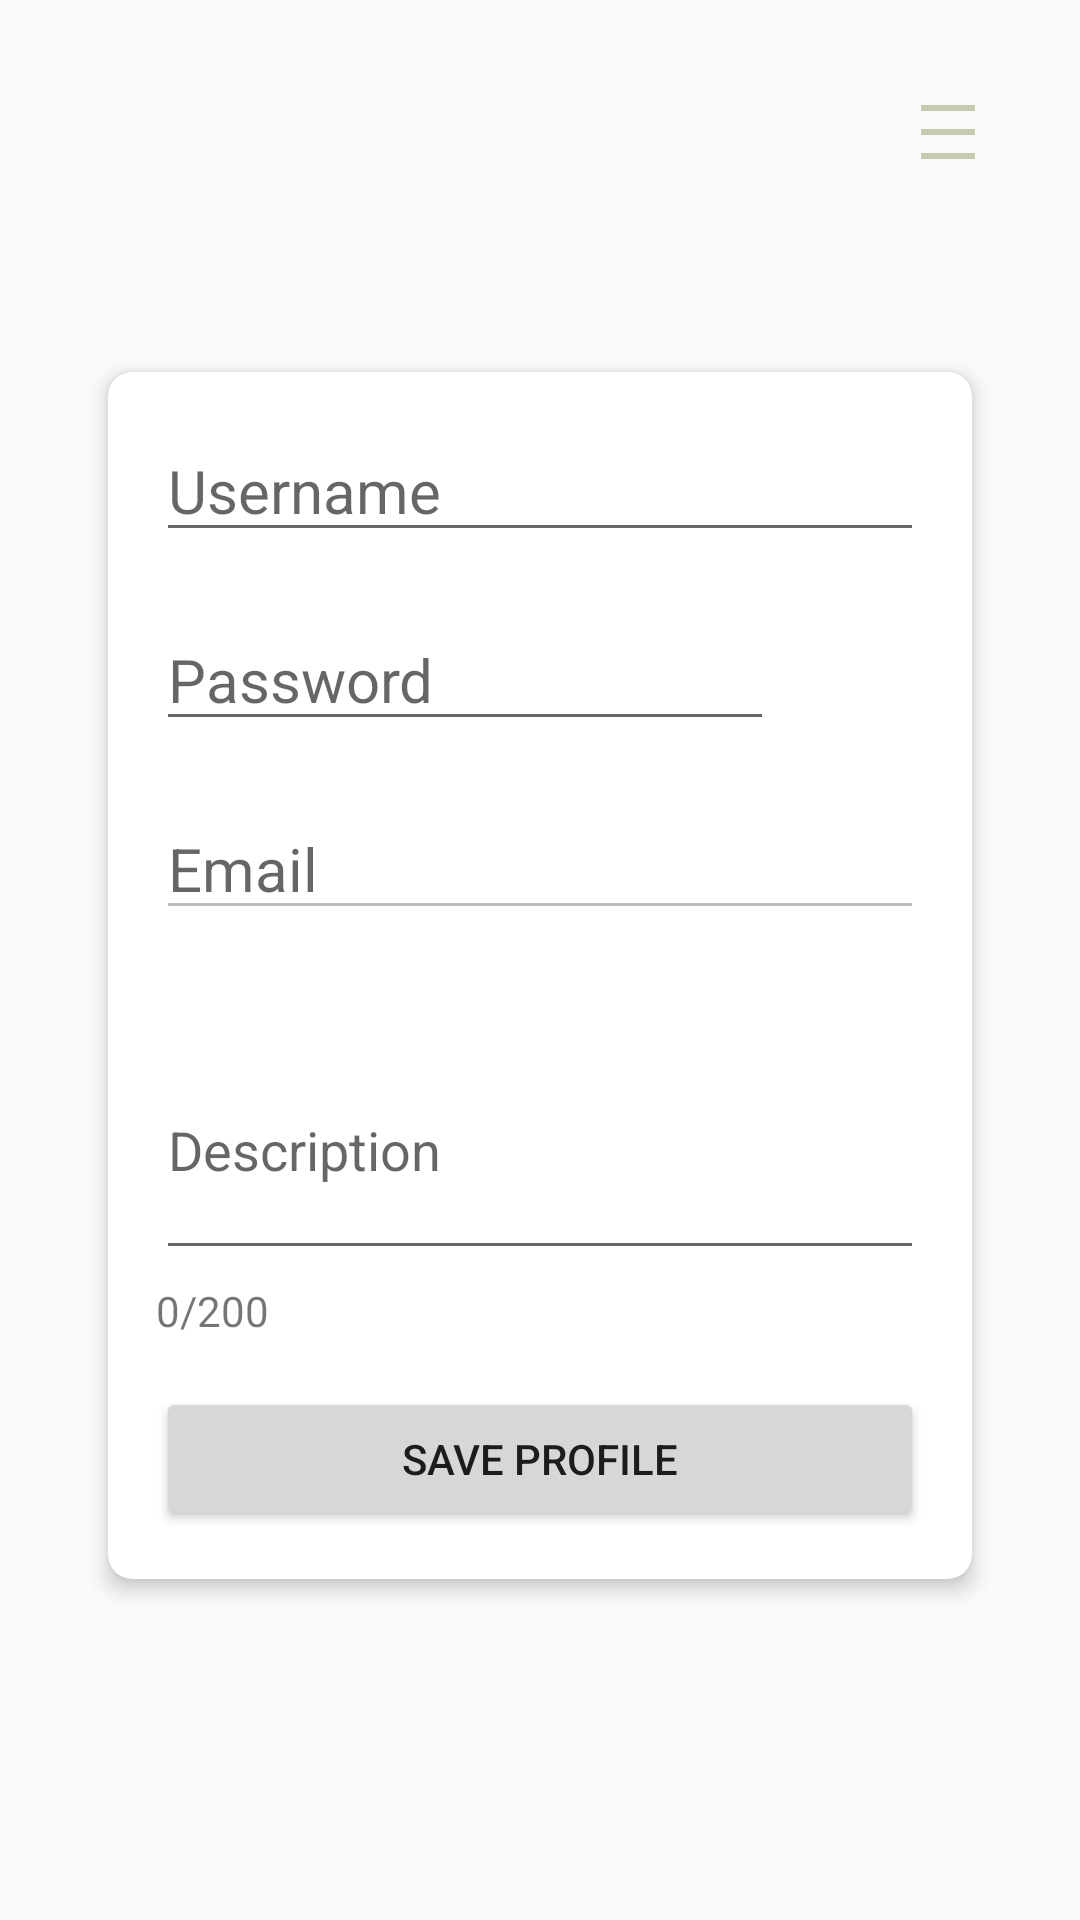

Screen size 1080w x 1920h. Icon name, then its center in pixels as (x=x, y=y):
Menu: (x=948, y=132)
